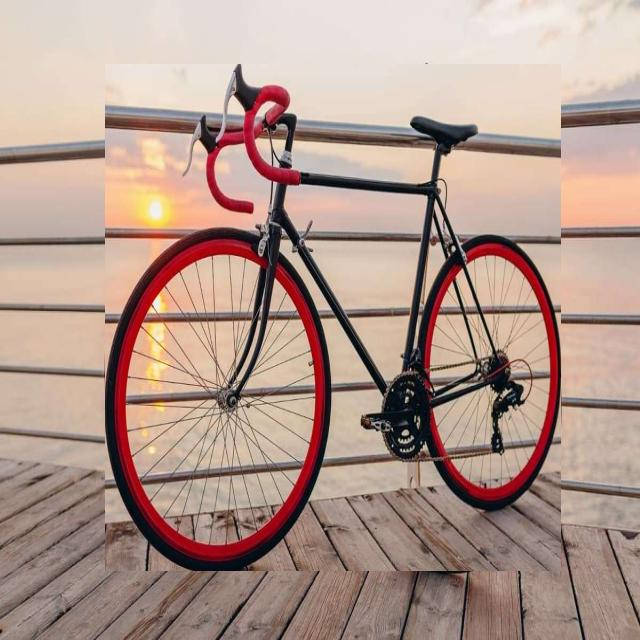bicycle: (105, 65, 561, 571)
